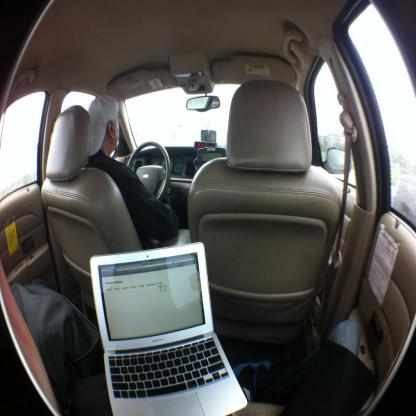board: (90, 241, 248, 416)
